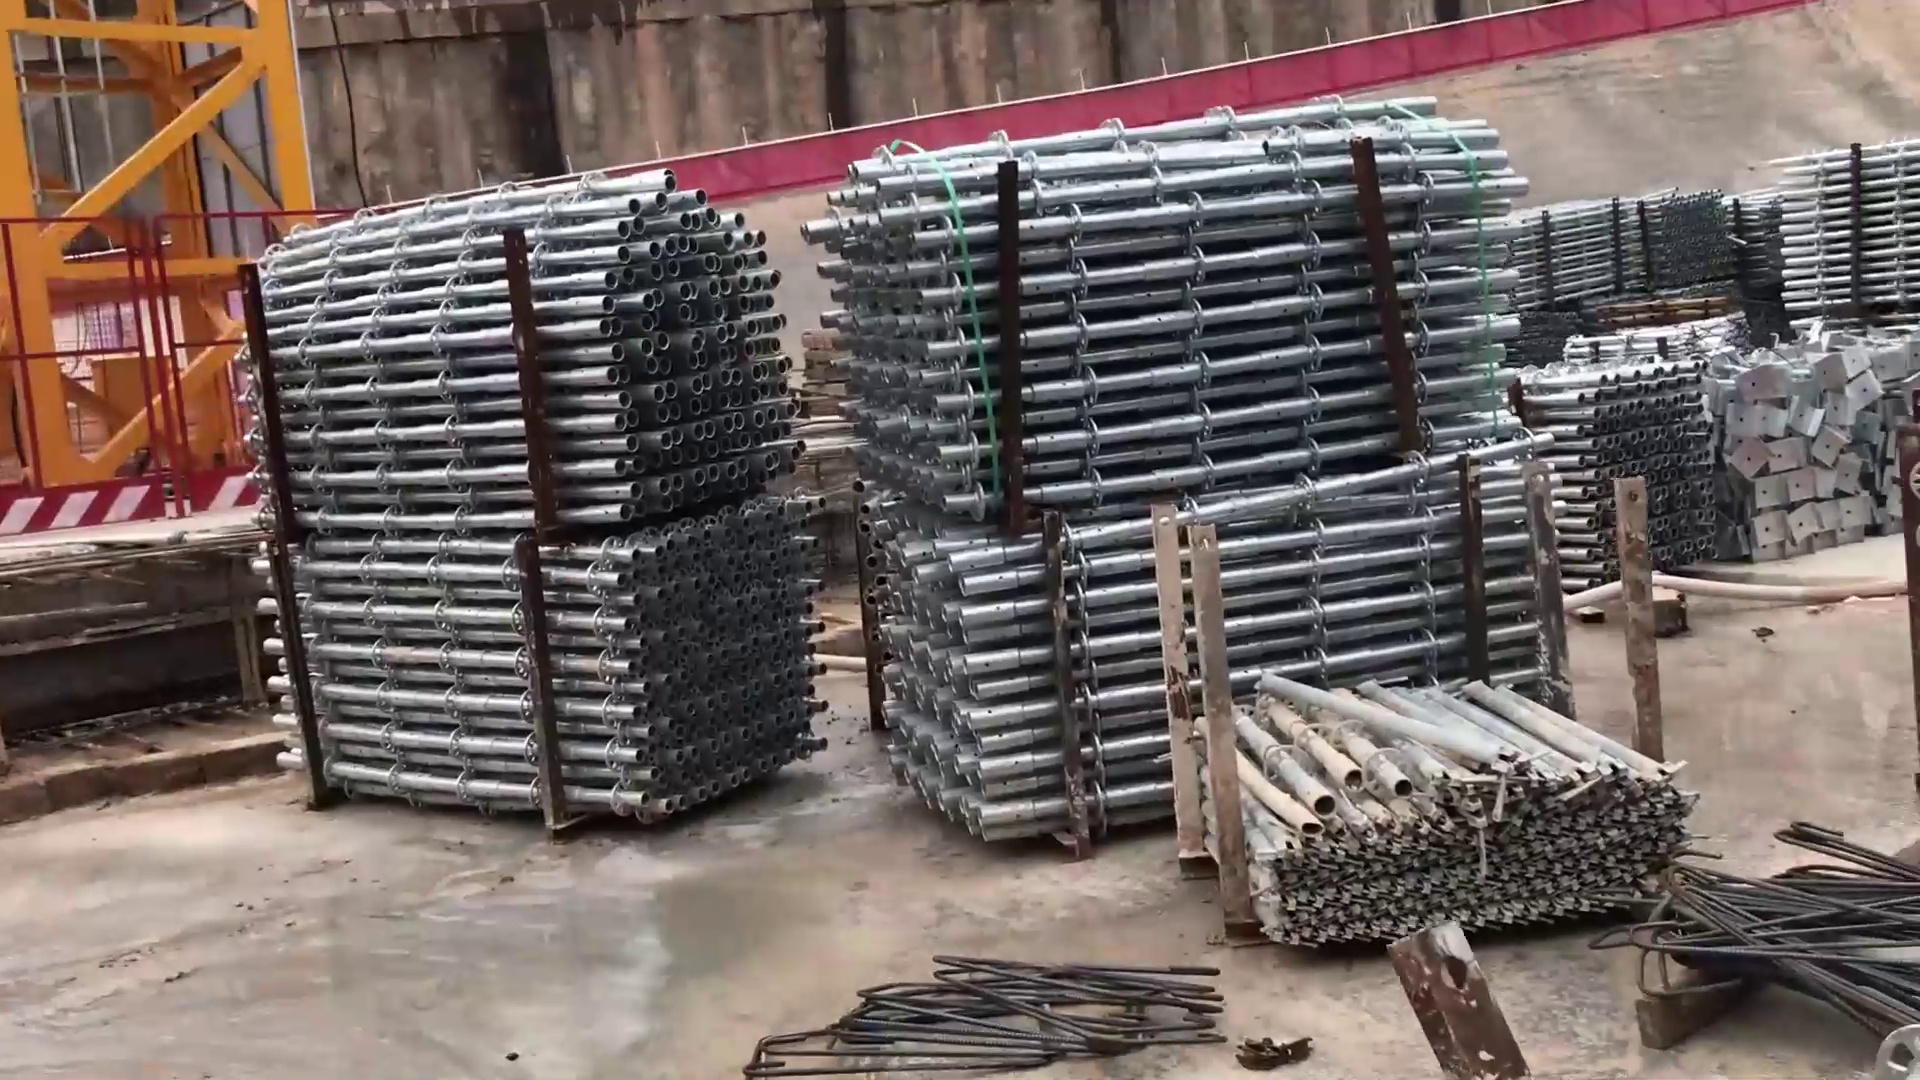rebar: (741, 953, 1241, 1080), (1655, 823, 1920, 1029)
scaffold: (829, 491, 1710, 931), (262, 161, 822, 843), (818, 92, 1547, 487), (1567, 344, 1734, 592), (1730, 338, 1904, 564), (1515, 186, 1767, 293), (1774, 146, 1920, 313)
